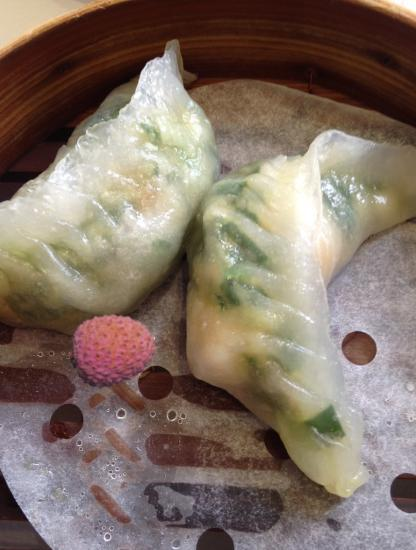Lychee: (69, 305, 157, 393)
